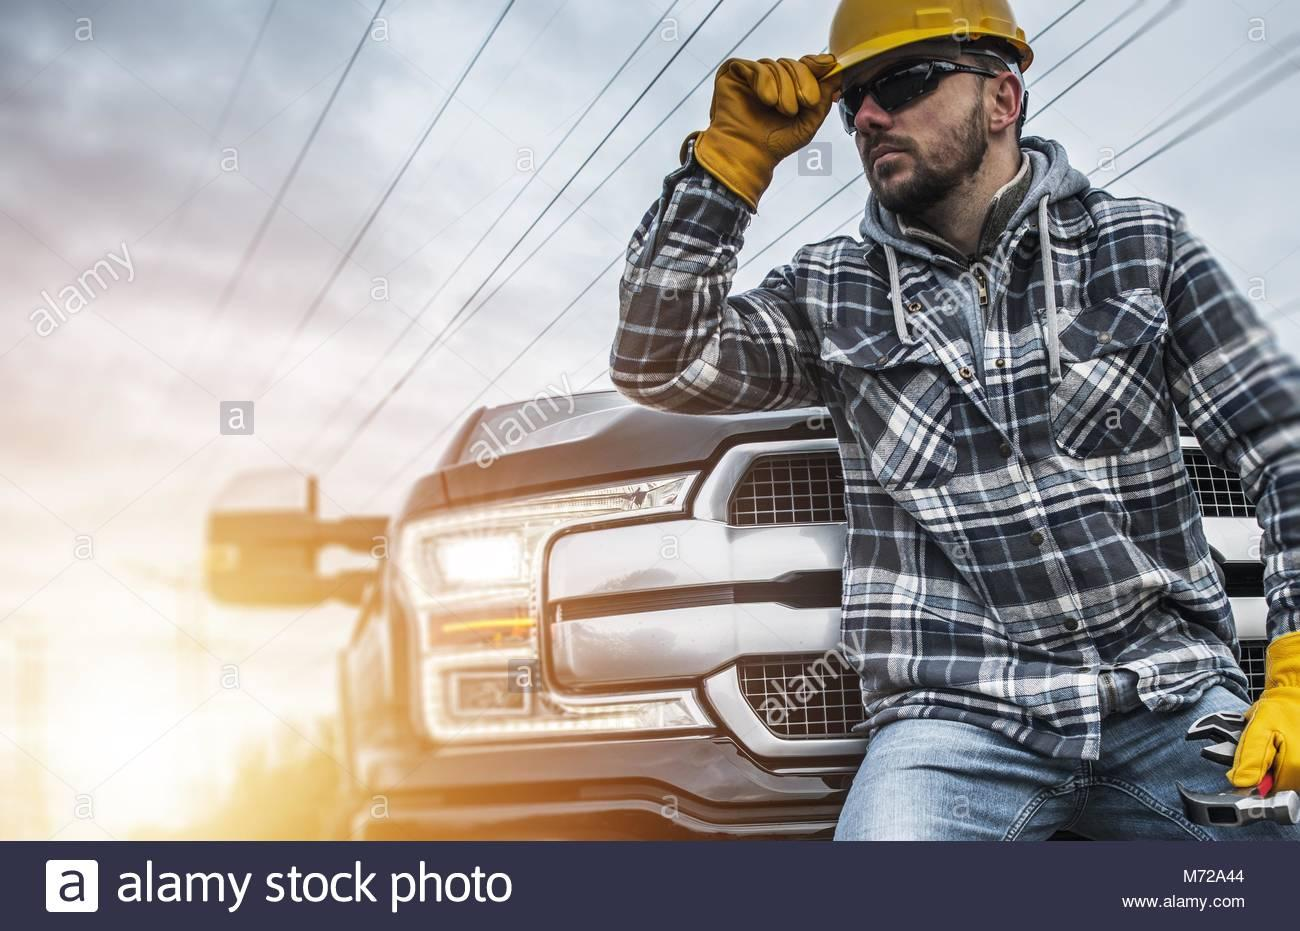helmet: (798, 1, 1038, 80)
